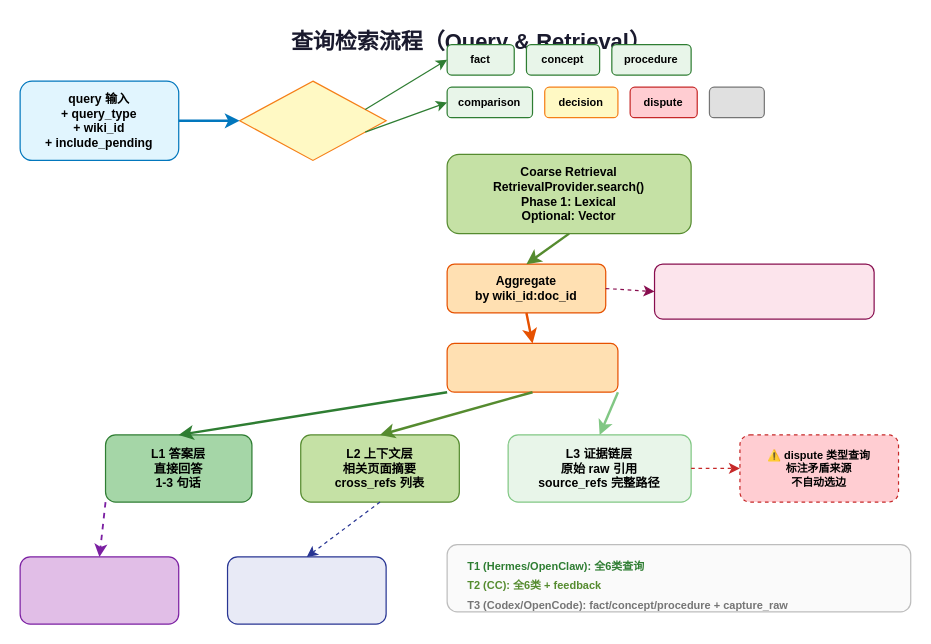
Image size: 931x644. Some labels were removed from this diagram. Here are the shapes that lost their labels. From the top down, the centre of each, then its label:
point (312, 120): Query Type 分类 6 类查询
point (736, 102): other
point (763, 291): Pending 叠加 raw: 可查（默认） truth zone: include_pending=true
point (532, 367): 整页/Section加载 cross_refs展开
point (99, 590): wiki.feedback → review_queue （自进化闭环）
point (306, 590): query_outcomes 记录 decision 类：必记 fact 类：采样
